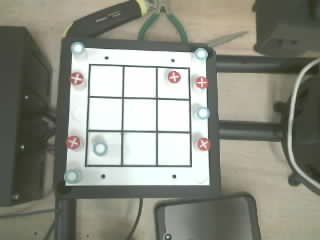blue circle: (64, 169, 81, 184), (93, 142, 107, 155), (71, 42, 84, 54), (197, 107, 209, 119), (194, 48, 207, 59)
board: (64, 43, 211, 185)
cells: (87, 132, 120, 164), (158, 133, 190, 165), (123, 133, 155, 165), (88, 98, 121, 129), (124, 99, 155, 130), (158, 100, 189, 131), (90, 66, 122, 96), (158, 68, 189, 98), (124, 67, 155, 97)
grid: (85, 64, 191, 166)
red cross: (66, 136, 80, 149), (70, 72, 83, 85), (197, 138, 210, 150), (168, 71, 180, 83), (195, 76, 207, 88)
